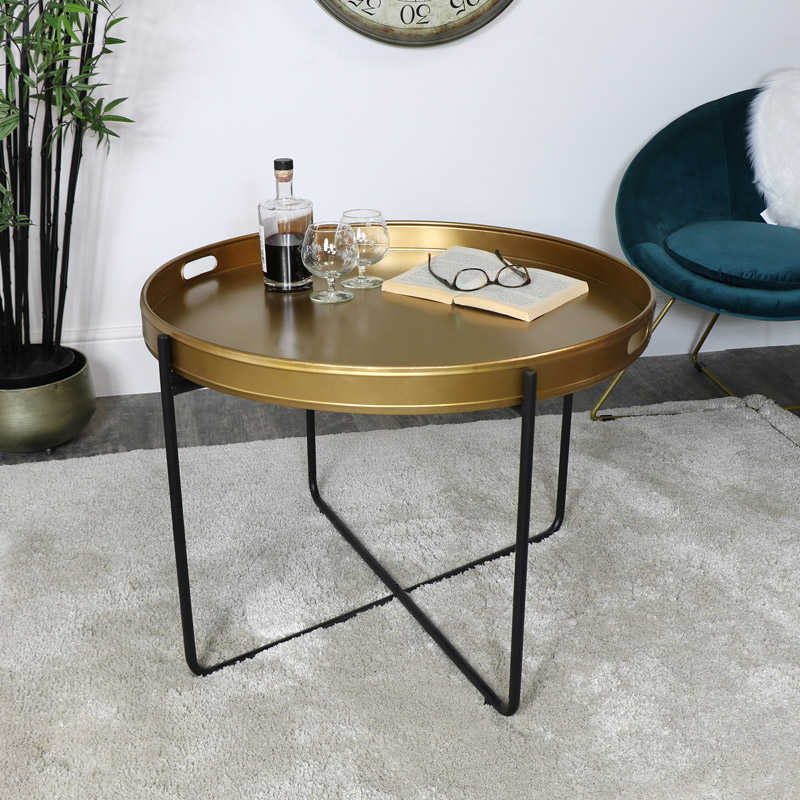chair: (596, 85, 800, 424)
table: (123, 205, 663, 730)
